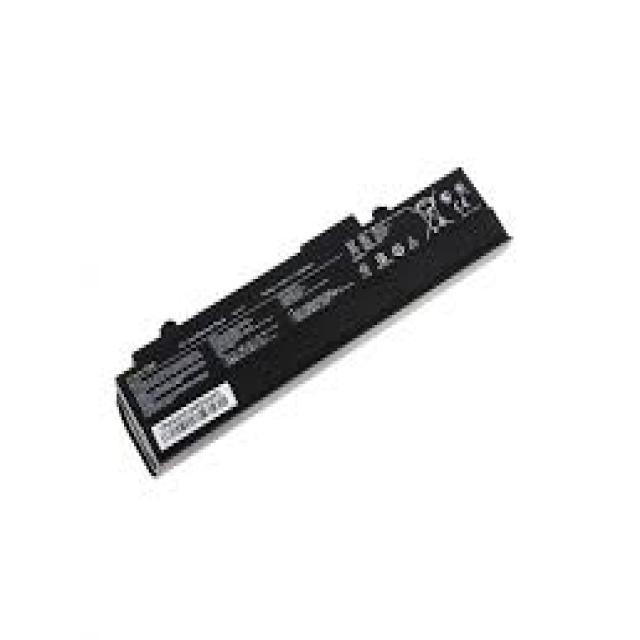Battery: (80, 139, 536, 488)
